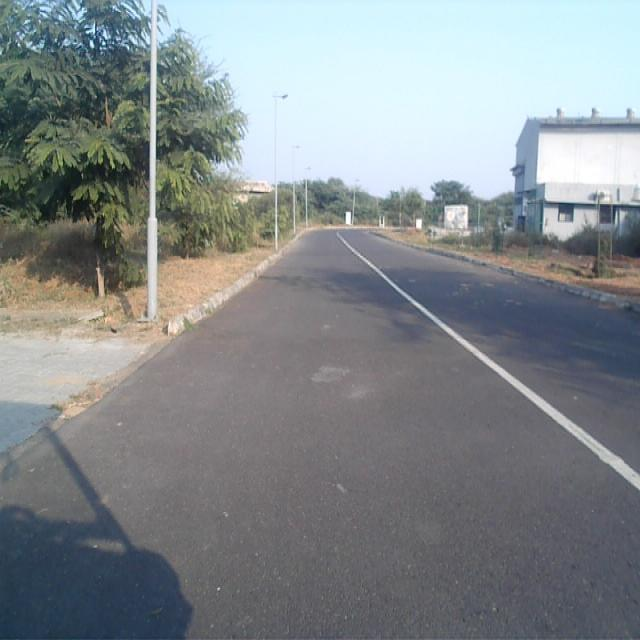lane: (0, 231, 640, 640)
